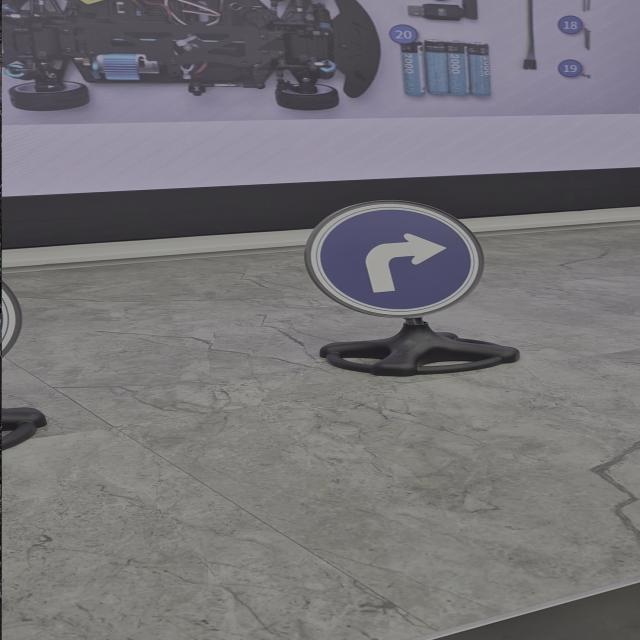right_dierection: (280, 192, 542, 329)
